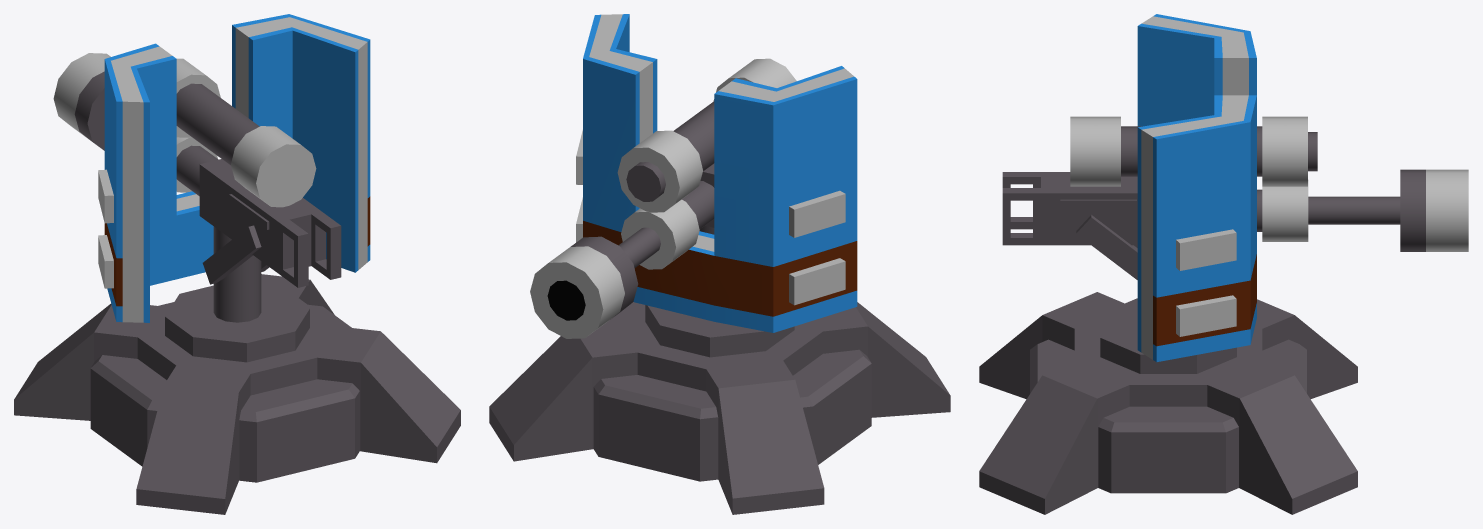
The model's file is turret.fbx.
3 views of the same model, side by side, from view 1: azimuth 30°, elevation 25°; view 2: azimuth 150°, elevation 25°; view 3: azimuth 270°, elevation 25° (orthographic). The views are drawn at different scales.
Visible parts, largest first — view 1: Cylinder.001, Plane, Cylinder, Cylinder.005, Cube, Cylinder.004, Cylinder.002, Cube.001, Cylinder.003; view 2: Plane, Cylinder.001, Cylinder, Cylinder.004, Cylinder.005, Cylinder.003; view 3: Cylinder.001, Plane, Cylinder, Cylinder.005, Cylinder.004, Cube, Cylinder.003, Cube.001.
Boxes of the visible parts, x1,y1,x2,y2 form: Cylinder.001: [14, 274, 460, 514]; Plane: [98, 14, 370, 322]; Cylinder: [90, 304, 359, 482]; Cylinder.005: [176, 58, 316, 207]; Cube: [199, 159, 341, 287]; Cylinder.004: [53, 53, 110, 150]; Cylinder.002: [213, 226, 261, 322]; Cube.001: [202, 225, 269, 284]; Cylinder.003: [176, 137, 218, 196]; Plane: [576, 14, 857, 332]; Cylinder.001: [489, 302, 950, 514]; Cylinder: [593, 302, 871, 481]; Cylinder.004: [530, 227, 660, 338]; Cylinder.005: [617, 58, 796, 212]; Cylinder.003: [621, 181, 714, 269]; Cylinder.001: [979, 292, 1357, 514]; Plane: [1137, 14, 1256, 362]; Cylinder: [1030, 339, 1306, 493]; Cylinder.005: [1070, 116, 1317, 186]; Cylinder.004: [1308, 169, 1468, 251]; Cube: [1002, 172, 1137, 245]; Cylinder.003: [1257, 180, 1308, 241]; Cube.001: [1076, 215, 1137, 279].
Bounding box in the file's own units: 253 × 264 × 327.
